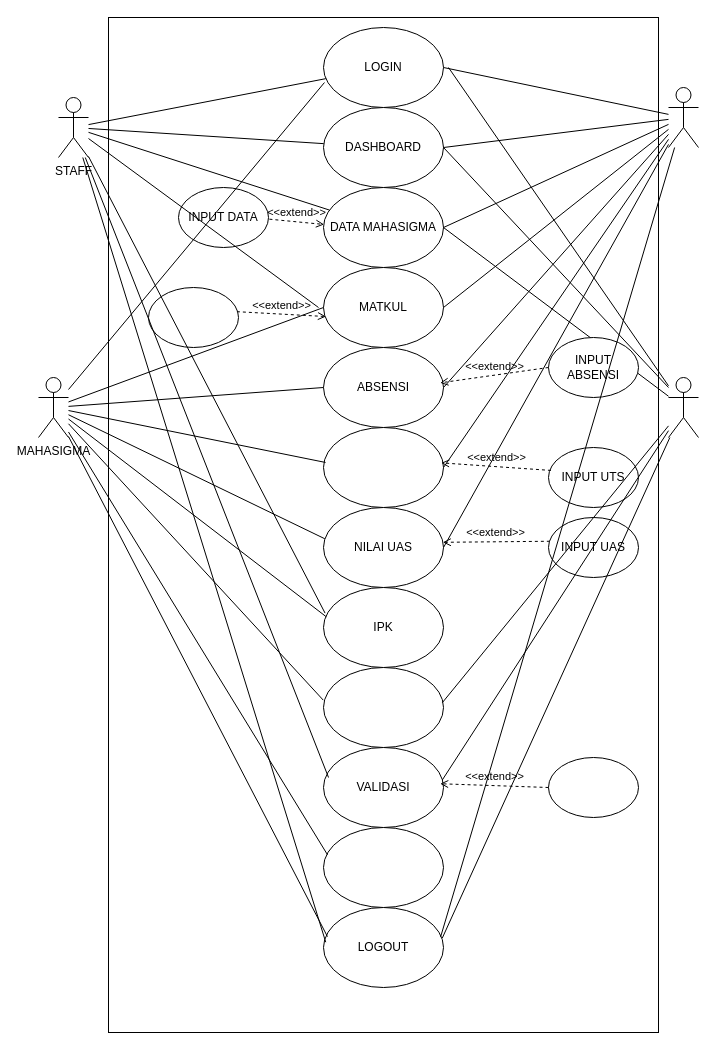
The diagram is 728 pixels wide and 1050 high, and some of its shapes have lost their labels. The box of each missing label's shape, as (x1, y1, x2, y2) in pixels:
CEK VALID: (548, 756, 638, 818)
CETAK LAPORAN: (322, 826, 444, 908)
DOSEN: (668, 86, 698, 148)
INPUT MATKUL: (148, 286, 238, 348)
KAPRODI: (668, 376, 698, 438)
NILAI UTS: (322, 426, 444, 508)
PEMBAYARAN: (322, 666, 444, 748)
